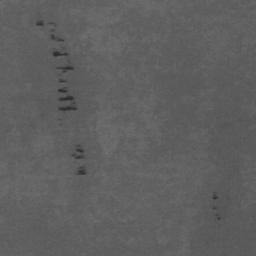Secondary rust skin: (57, 77, 79, 112), (70, 148, 86, 160), (55, 65, 75, 74), (49, 33, 66, 43), (51, 50, 69, 58), (75, 165, 87, 176), (35, 19, 45, 27)
